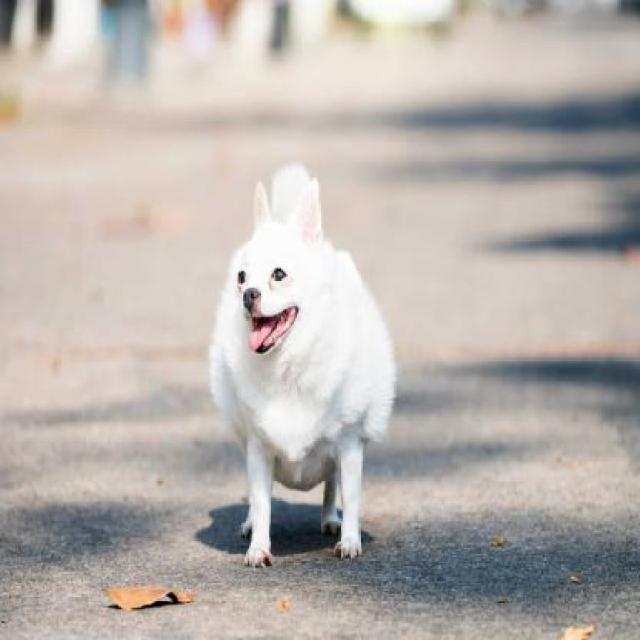Dog: (208, 166, 400, 574)
